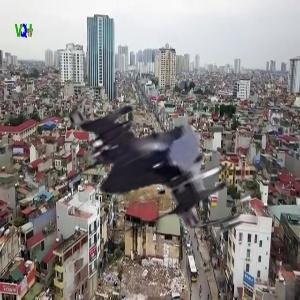drone: (32, 75, 229, 272)
